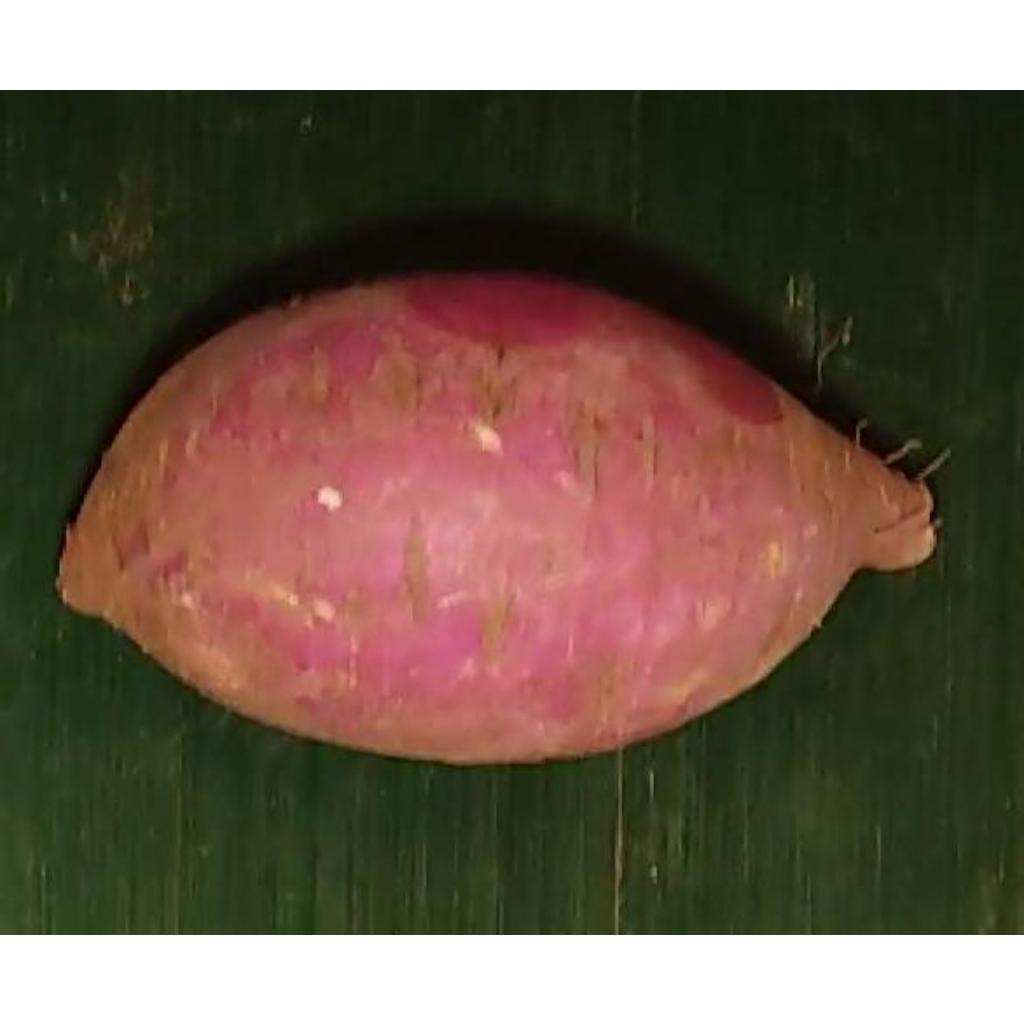Sweet Potato: (54, 274, 938, 762)
